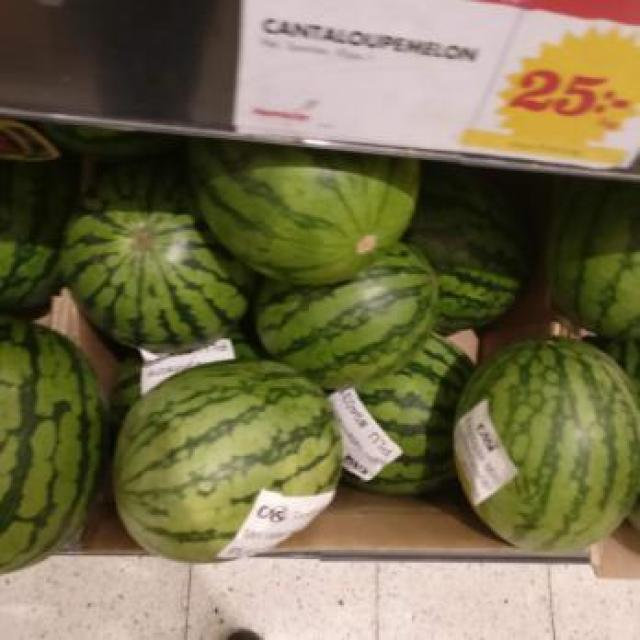Watermelon: (110, 352, 342, 568), (55, 140, 261, 349), (460, 335, 638, 555), (193, 133, 438, 280), (232, 230, 458, 379), (0, 322, 109, 577), (550, 186, 638, 340)
